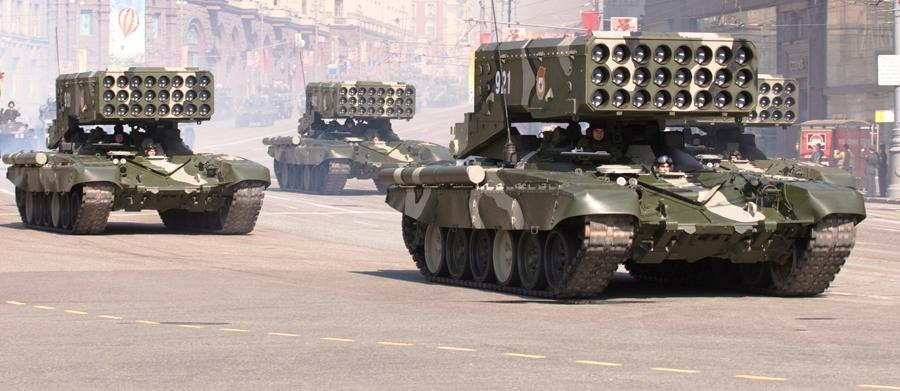rszo: (382, 35, 872, 312), (12, 59, 278, 246), (257, 79, 446, 183)
